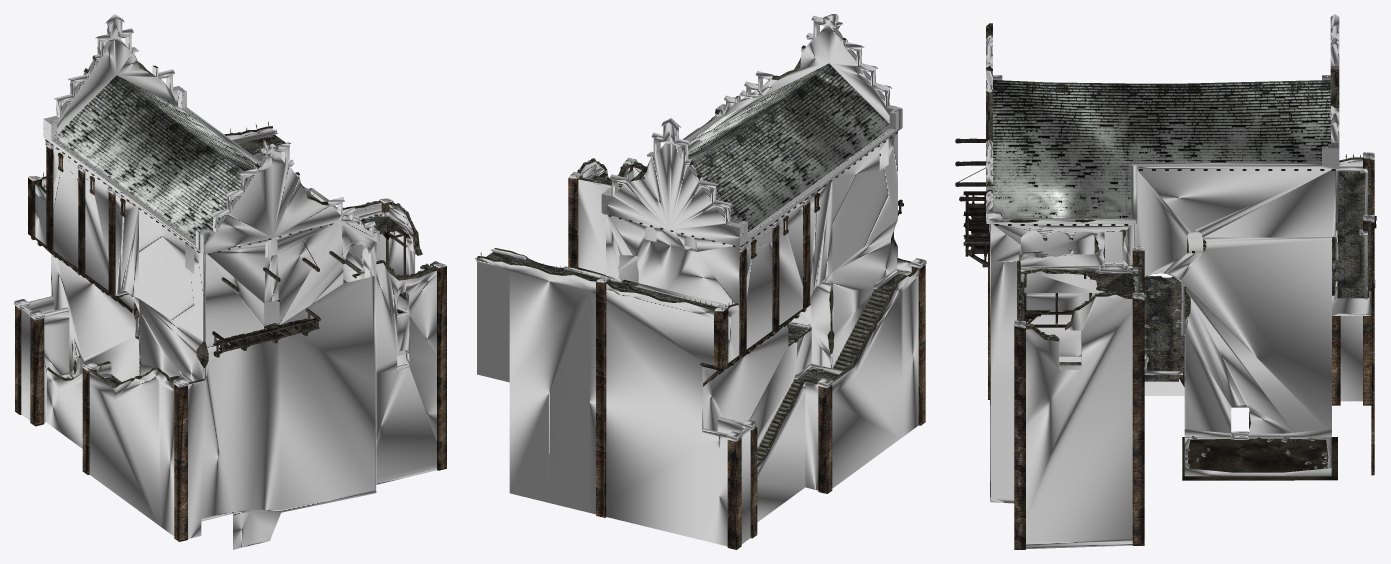
3 renders of one model, left to right at view 1: azimuth 30°, elevation 25°; view 2: azimuth 150°, elevation 25°; view 3: azimuth 270°, elevation 25°, orthographic. The views are drawn at different scales.
Visible parts, largest first — view 1: mesh18, mesh17, mesh6, mesh8, mesh15, mesh11, mesh7, mesh13, mesh9, mesh16; view 2: mesh18, mesh17, mesh8, mesh6, mesh15, mesh14, mesh9, mesh16, mesh13, mesh2; view 3: mesh18, mesh17, mesh6, mesh8, mesh9, mesh10, mesh16, mesh15, mesh7, mesh11, mesh19, mesh13 (+4 smaller).
Boxes of the visible parts, <box> form: mesh18: <box>21,14,379,549</box>; mesh17: <box>57,75,321,240</box>; mesh6: <box>14,141,446,484</box>; mesh8: <box>15,146,446,541</box>; mesh15: <box>35,55,436,387</box>; mesh11: <box>212,308,406,357</box>; mesh7: <box>343,230,432,283</box>; mesh13: <box>31,139,410,313</box>; mesh9: <box>66,134,401,383</box>; mesh16: <box>42,129,413,382</box>; mesh18: <box>477,14,918,546</box>; mesh17: <box>681,63,889,231</box>; mesh8: <box>568,161,925,549</box>; mesh6: <box>568,157,926,441</box>; mesh15: <box>477,14,918,467</box>; mesh14: <box>757,288,890,460</box>; mesh9: <box>486,175,905,381</box>; mesh16: <box>475,167,911,463</box>; mesh13: <box>599,131,897,386</box>; mesh2: <box>510,158,833,462</box>; mesh18: <box>986,14,1371,503</box>; mesh17: <box>993,80,1330,218</box>; mesh6: <box>989,152,1375,548</box>; mesh8: <box>988,158,1374,549</box>; mesh9: <box>1020,171,1369,381</box>; mesh10: <box>1182,437,1337,480</box>; mesh16: <box>1020,166,1367,476</box>; mesh15: <box>986,23,1371,428</box>; mesh7: <box>1024,271,1104,369</box>; mesh11: <box>963,191,1026,323</box>; mesh19: <box>1026,311,1081,356</box>; mesh13: <box>995,169,1376,327</box>.
Size of the model in its own units: 24.38 by 34.23 by 28.74.
